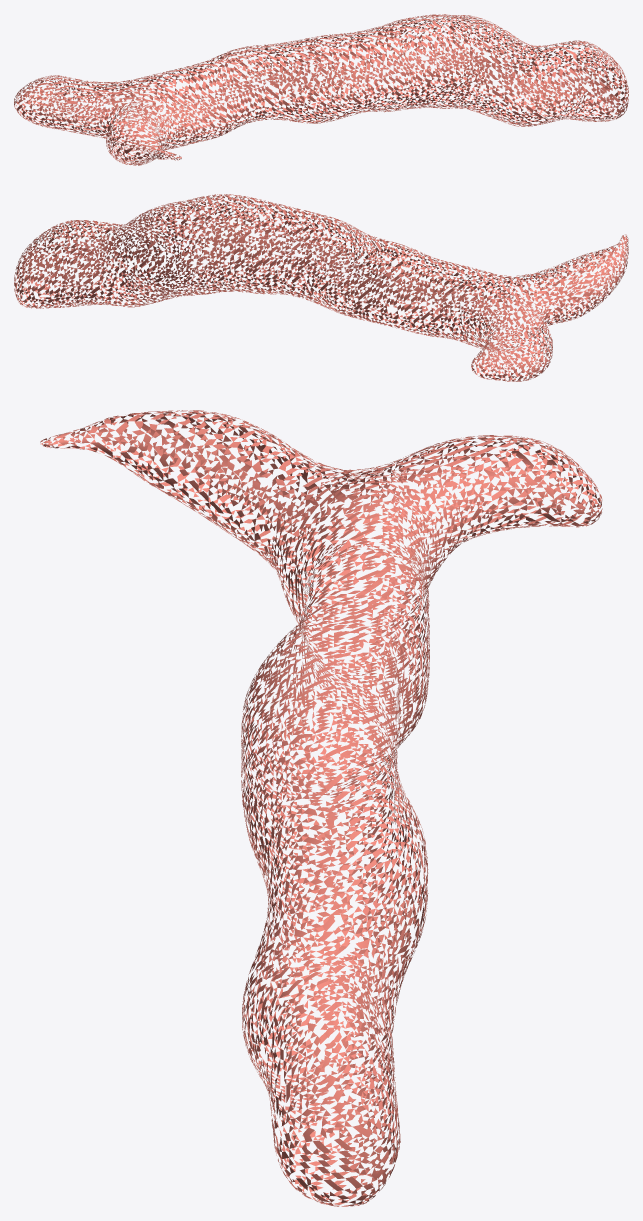
Rendered from diseased.glb.
The picture shows the model from 3 angles, top to bottom: view 1: azimuth 30°, elevation 25°; view 2: azimuth 150°, elevation 25°; view 3: azimuth 270°, elevation 25°; orthographic projection. The views are drawn at different scales.
Bounding box in the file's own units: 120 × 30.31 × 52.63.
